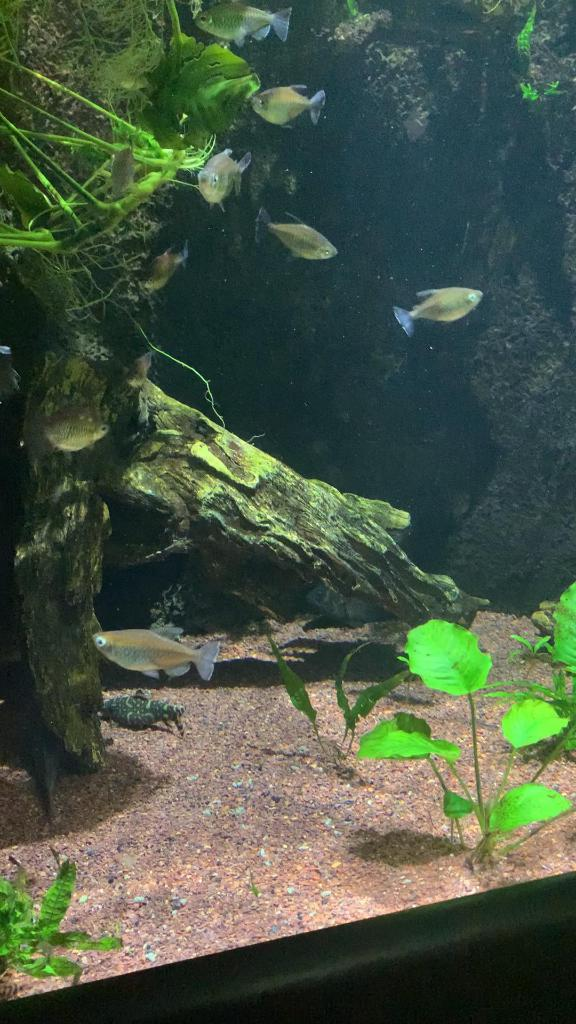fish: (88, 626, 218, 686), (185, 0, 296, 51), (388, 286, 486, 340), (23, 404, 115, 460), (256, 212, 342, 268), (194, 149, 254, 211), (98, 690, 186, 730), (253, 89, 327, 129), (139, 238, 190, 292)
